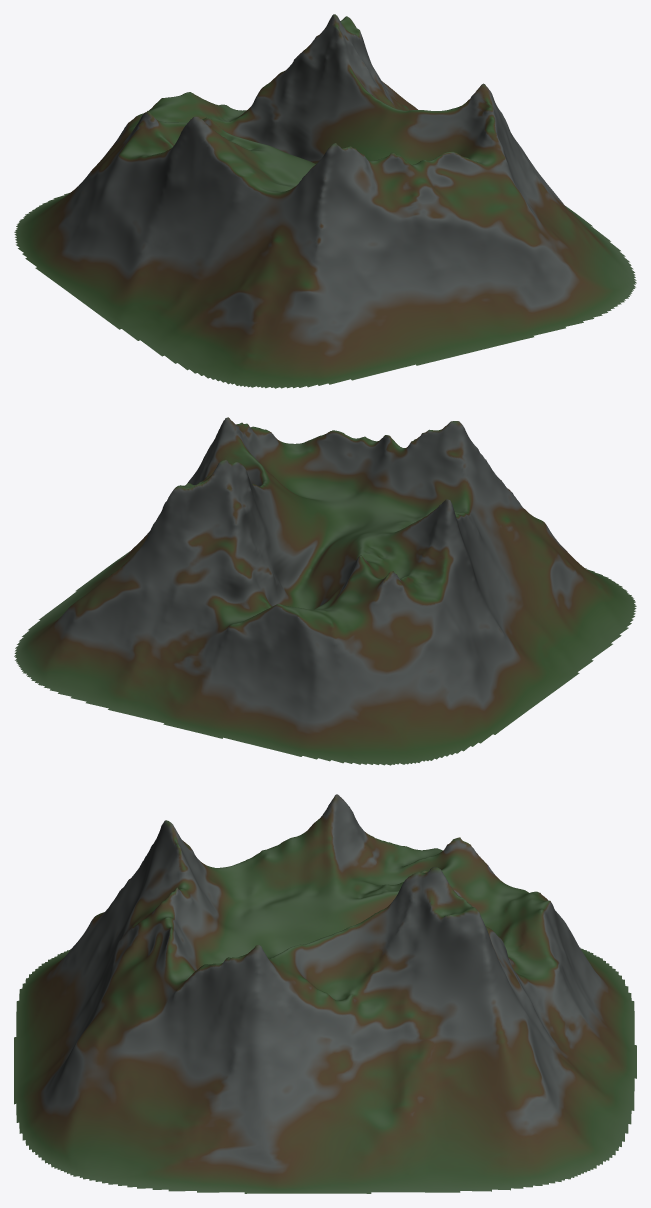
File: mountains.glb
The picture shows the model from 3 angles, top to bottom: view 1: azimuth 30°, elevation 25°; view 2: azimuth 150°, elevation 25°; view 3: azimuth 270°, elevation 25°; orthographic projection. The views are drawn at different scales.
Visible parts, largest first — view 1: mountains; view 2: mountains; view 3: mountains.
Part boxes in pixels (x1,y1,x2,y2): mountains: (14, 14, 636, 388); mountains: (14, 417, 636, 765); mountains: (14, 794, 636, 1193).
Bounding box in the file's own units: 119 × 47.75 × 119.
Materials: 1 (1 with a texture image).
